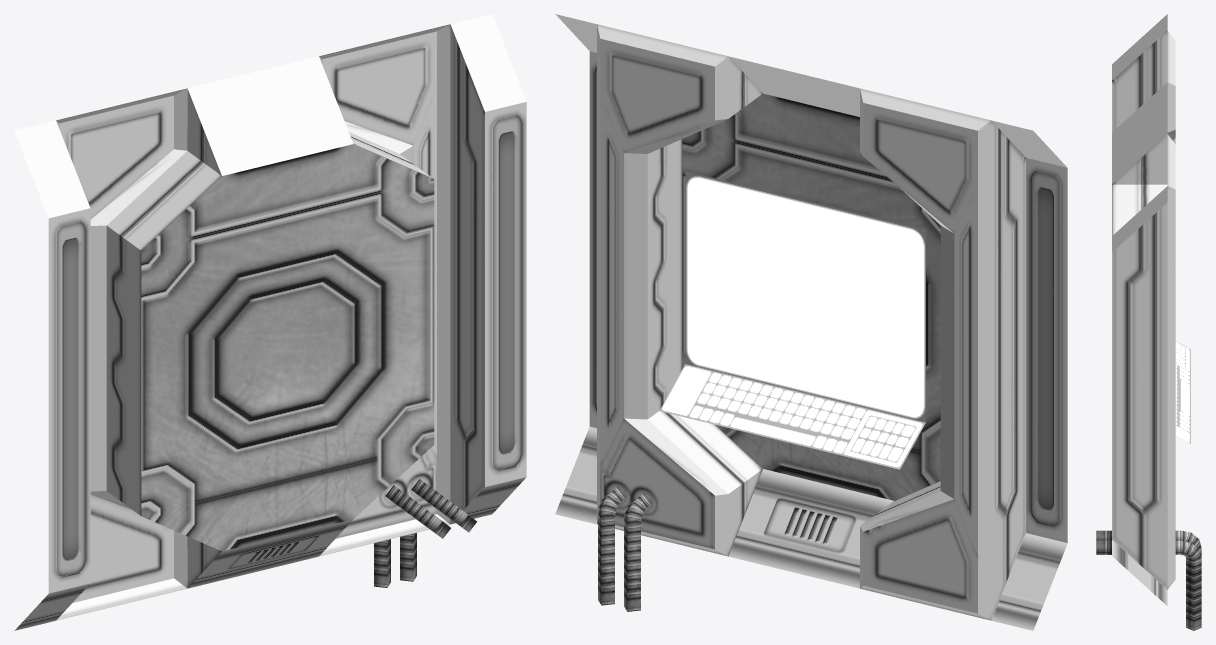
The model's file is Sect_Wall_3_Terminal.FBX.
3 renders of one model, left to right at view 1: azimuth 30°, elevation 25°; view 2: azimuth 150°, elevation 25°; view 3: azimuth 270°, elevation 25°, orthographic. The views are drawn at different scales.
Parts seen in each view (by area): view 1: Wall_3_Terminal; view 2: Wall_3_Terminal, Monitor; view 3: Wall_3_Terminal, Monitor.
Boxes of the visible parts, box(x1,y1,x2,y2) form: Wall_3_Terminal: box(14, 14, 526, 630); Wall_3_Terminal: box(555, 14, 1067, 630); Monitor: box(659, 171, 925, 469); Wall_3_Terminal: box(1096, 14, 1201, 630); Monitor: box(1175, 341, 1190, 443).
Bounding box in the file's own units: 4 × 4.47 × 0.9473.
